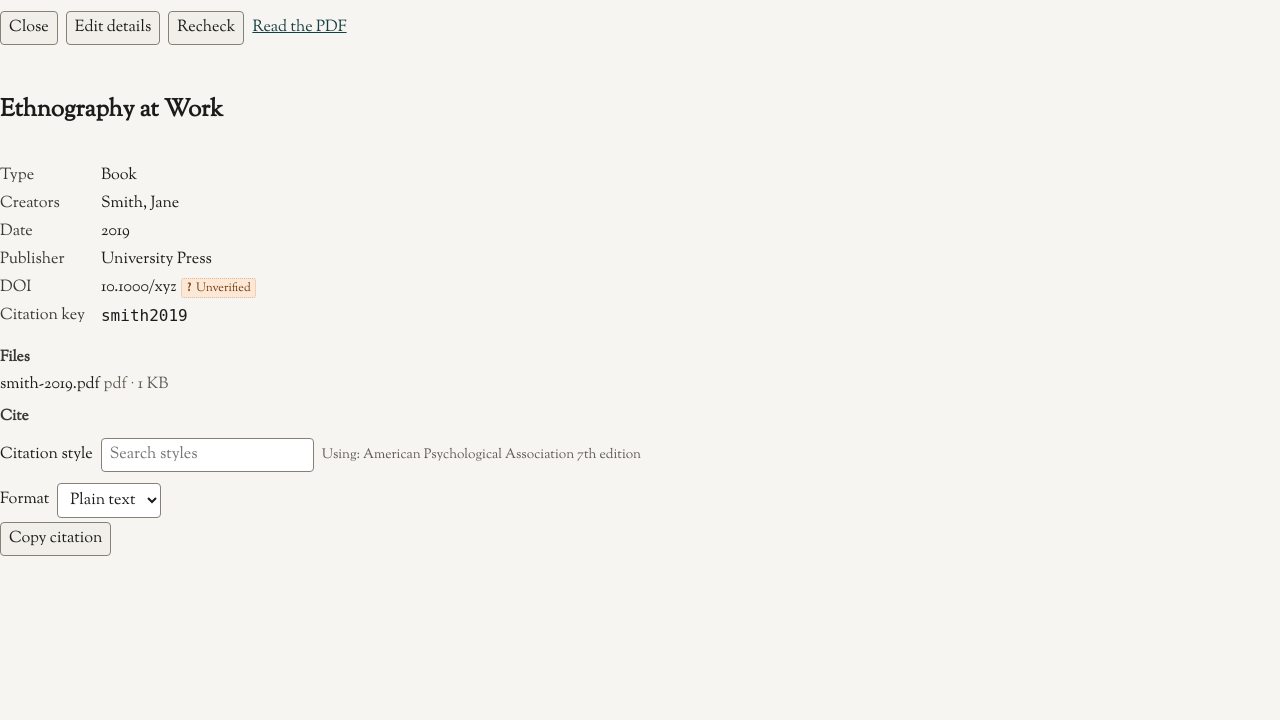
Test: SourceDetail: verification (Task 34d) › a DOI is confirmed through the field route under its own key (R149), and its badge then says Confirmed by you
Click the button with aria-label "DOI: Unverified". click: coordinates (218, 288)
box: [181, 278, 256, 298]
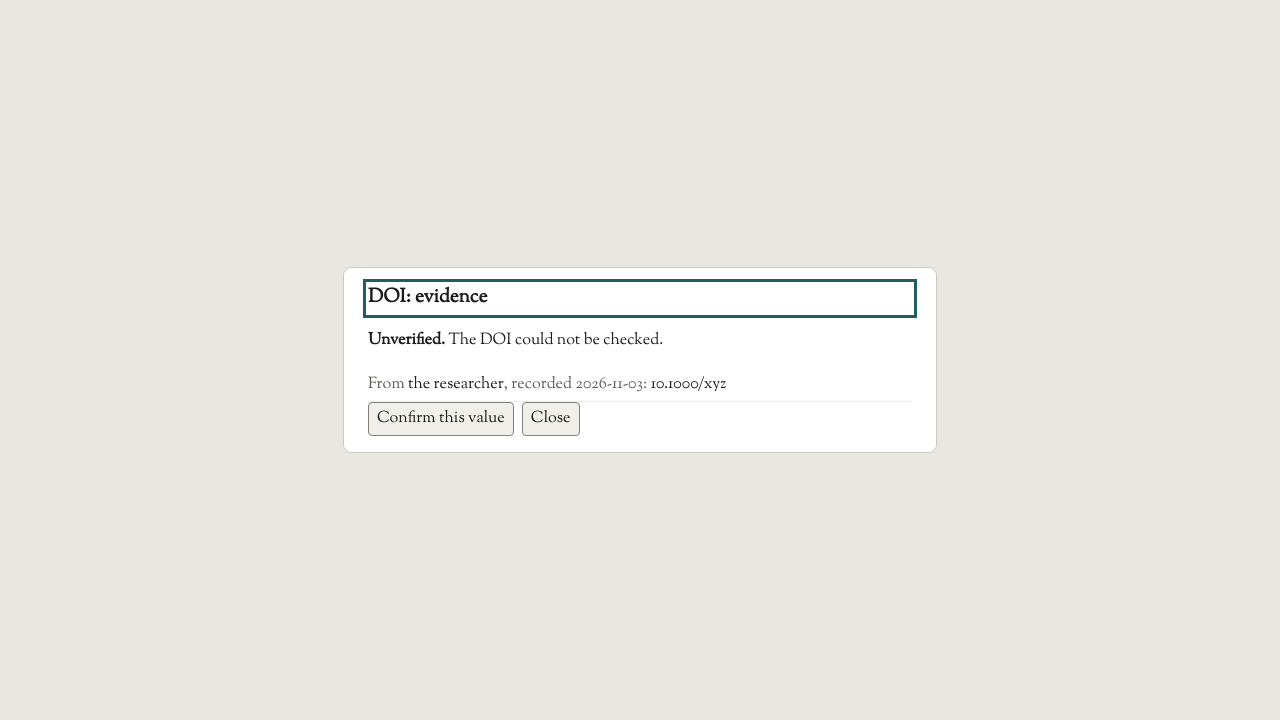
Click the button "Confirm this value". click: coordinates (441, 419)
box: [368, 402, 514, 436]
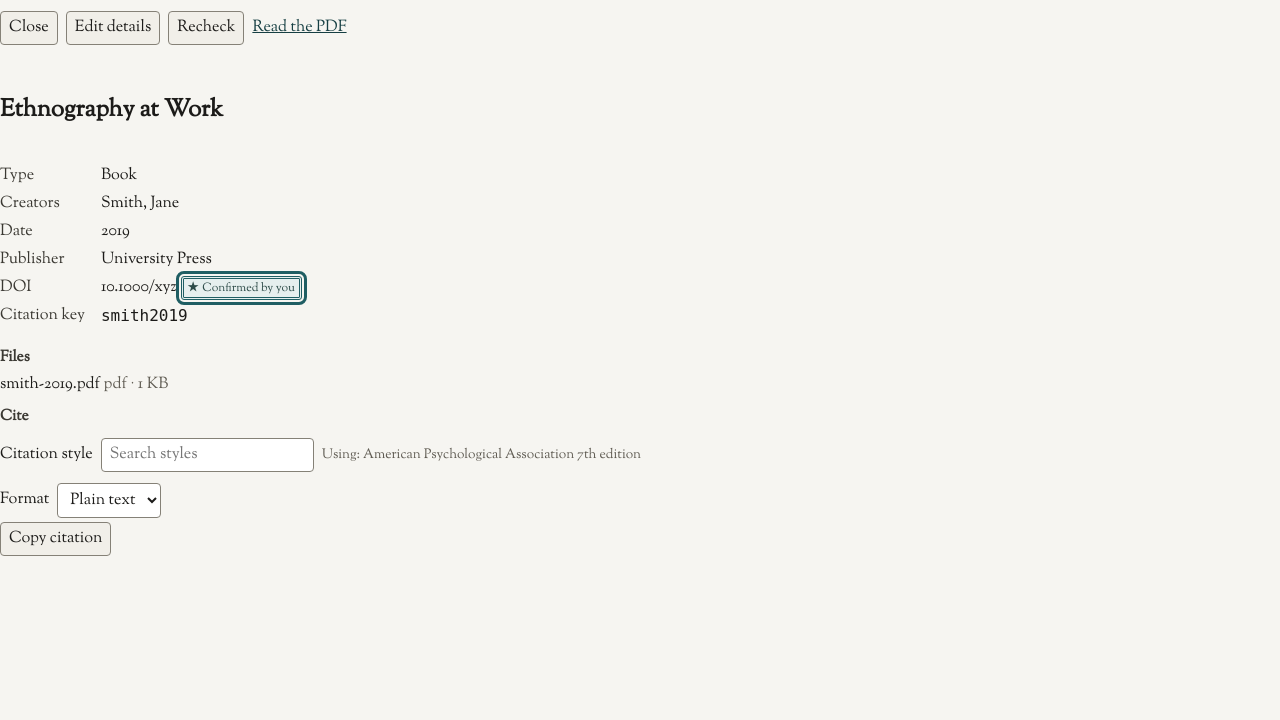
Now the button with aria-label "DOI: Confirmed by you" is shown, box [181, 276, 302, 300]
